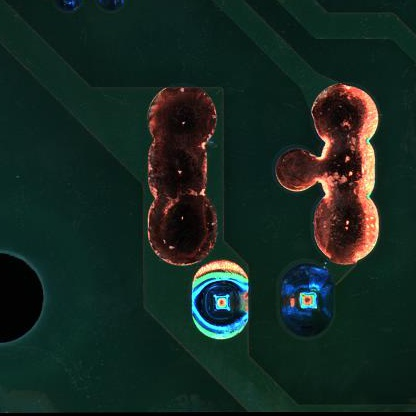spot: (191, 259, 250, 341), (280, 264, 336, 338)
